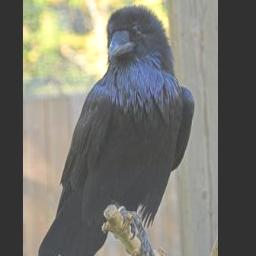Crow: (38, 2, 195, 256)
